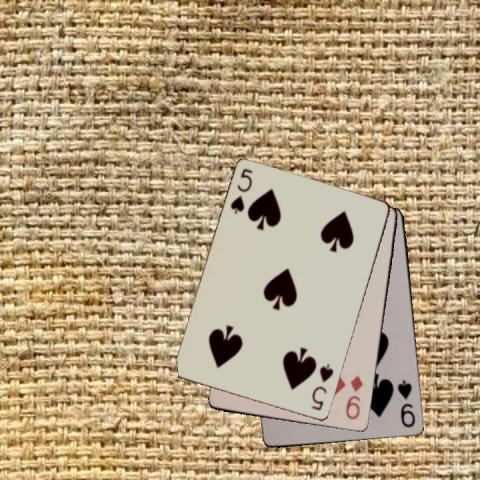5s: (227, 166, 255, 216), (309, 361, 335, 412)
9d: (343, 373, 365, 421)
9s: (395, 377, 417, 430)
